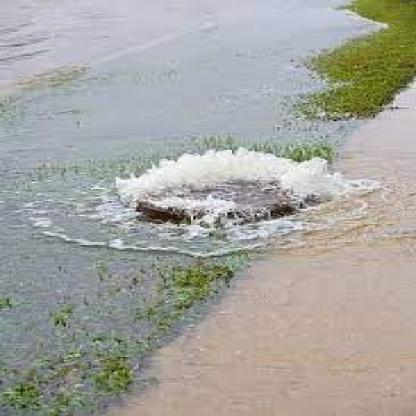drainage overflow-repair-: (31, 122, 376, 266)
